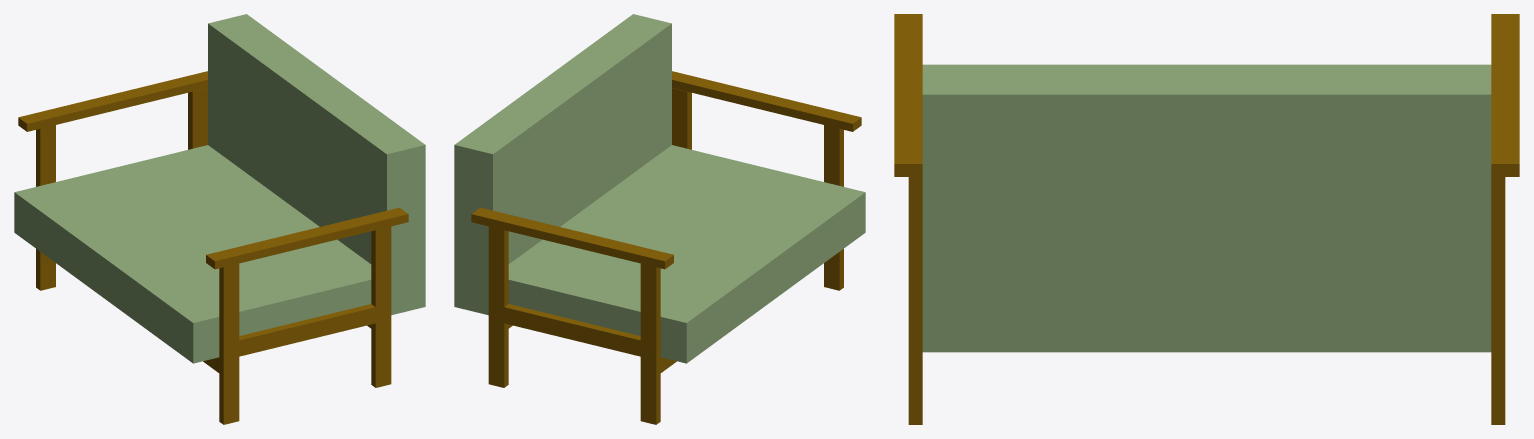
The model's file is armchair_2_top01.glb.
The picture shows the model from 3 angles, left to right: view 1: azimuth 30°, elevation 25°; view 2: azimuth 150°, elevation 25°; view 3: azimuth 270°, elevation 25°; orthographic projection. The views are drawn at different scales.
Bounding box in the file's own units: 0.9 × 0.8392 × 1.32.
